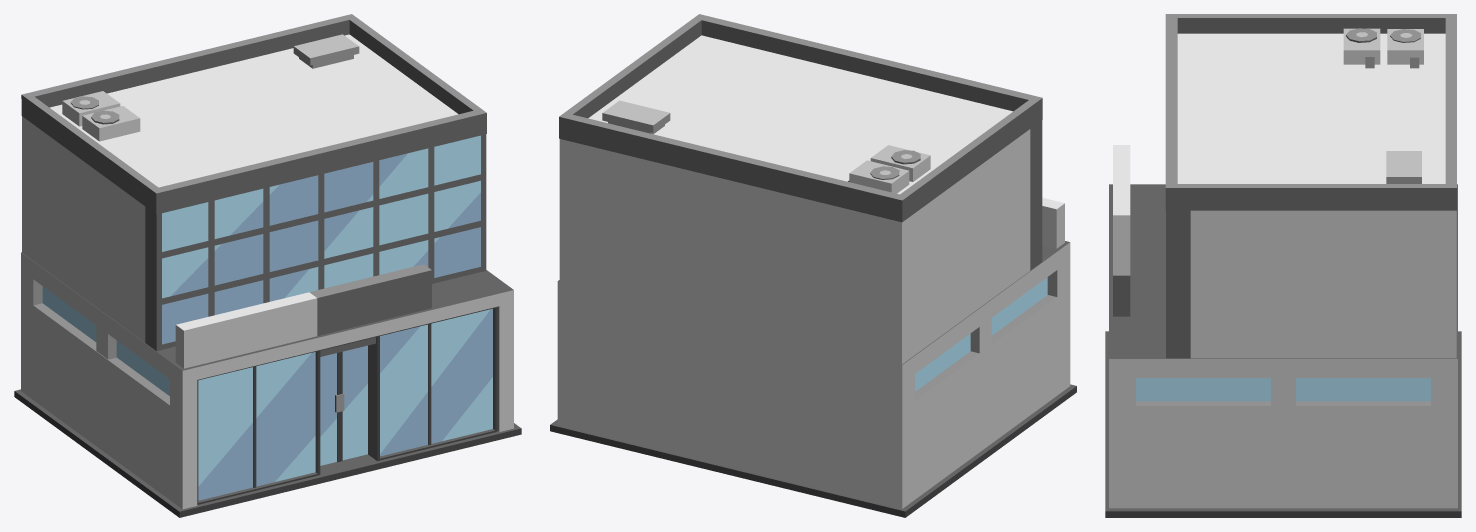
The model's file is supermarket_010.fbx.
The picture shows the model from 3 angles, left to right: view 1: azimuth 30°, elevation 25°; view 2: azimuth 150°, elevation 25°; view 3: azimuth 270°, elevation 25°; orthographic projection. The views are drawn at different scales.
Parts seen in each view (by area): view 1: supermarket_010; view 2: supermarket_010; view 3: supermarket_010.
Part boxes in pixels (x1=…): supermarket_010: x1=14, y1=14, x2=521, y2=517; supermarket_010: x1=550, y1=14, x2=1076, y2=517; supermarket_010: x1=1105, y1=14, x2=1461, y2=517.
Size of the model in its own units: 682 by 578 by 571.
